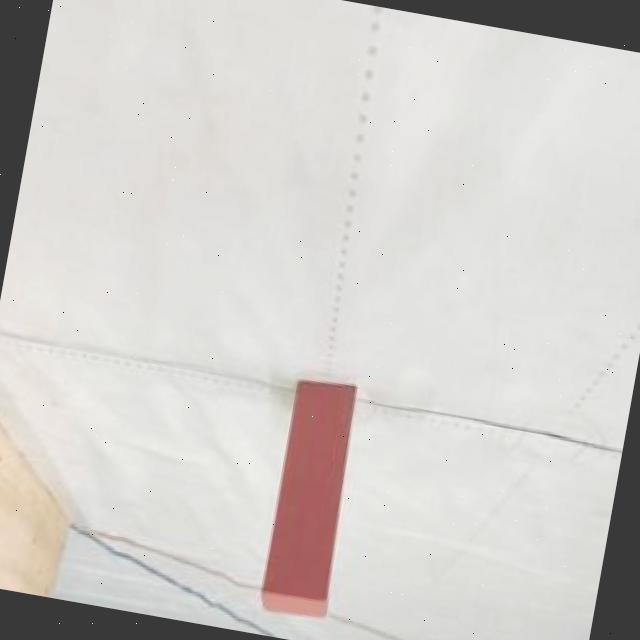redbox: (253, 374, 364, 619)
